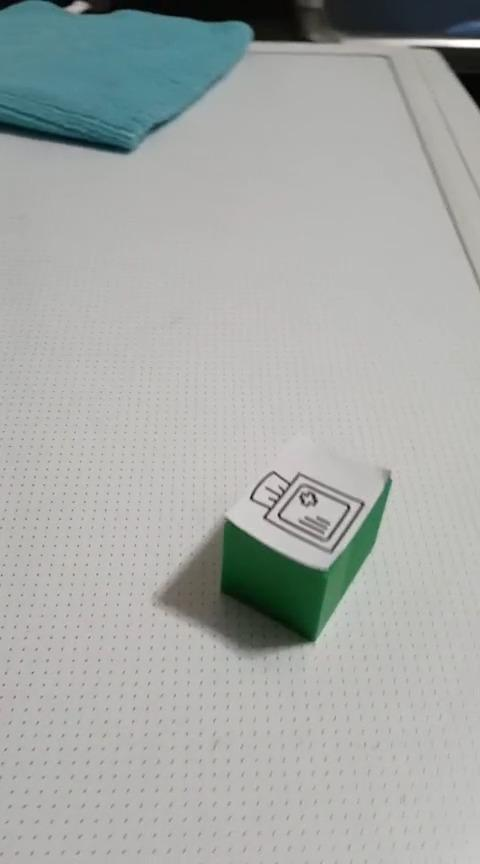Gauze: (218, 434, 392, 642)
